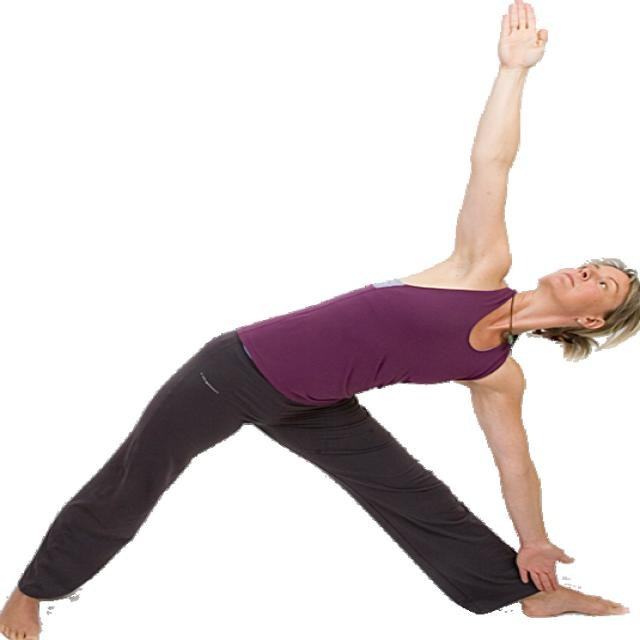Triangle_Pose: (1, 1, 636, 639)
